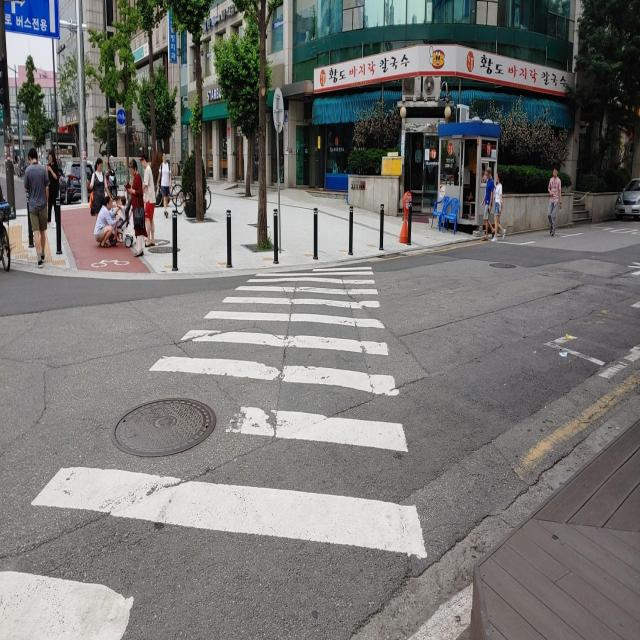횡단보도: (0, 262, 431, 640)
